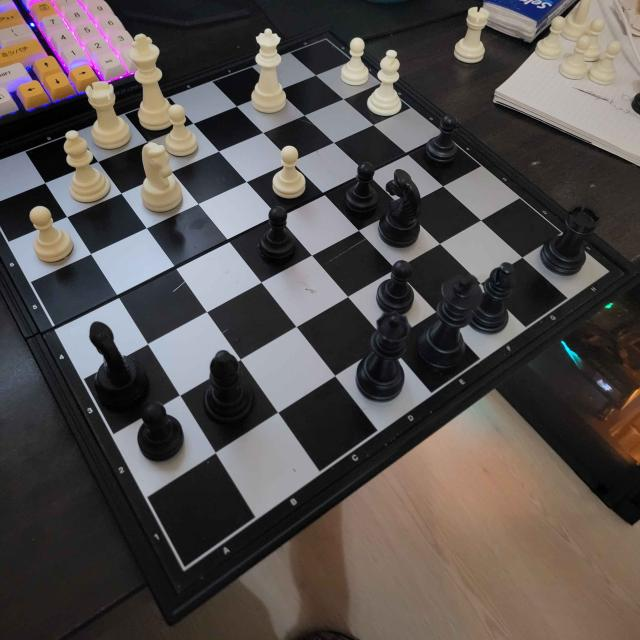black-bishop: (202, 348, 256, 432), (474, 261, 520, 336)
black-king: (417, 273, 483, 375)
black-knight: (84, 318, 150, 408), (378, 167, 421, 250)
black-pawn: (135, 402, 184, 465), (374, 256, 420, 316), (343, 160, 381, 222), (422, 111, 463, 168), (256, 204, 297, 260)
black-queen: (351, 306, 414, 409)
black-rook: (538, 201, 604, 279)
chess-board: (0, 35, 631, 607)
white-bishop: (60, 128, 114, 207), (366, 49, 405, 121)
white-king: (128, 32, 178, 131)
white-pawn: (26, 202, 74, 270), (272, 143, 307, 203), (163, 103, 200, 158), (558, 32, 593, 81), (338, 35, 369, 90), (589, 39, 624, 86), (536, 15, 569, 64)
white-queen: (252, 28, 288, 118)
white-rook: (84, 78, 132, 150), (454, 4, 492, 69)
